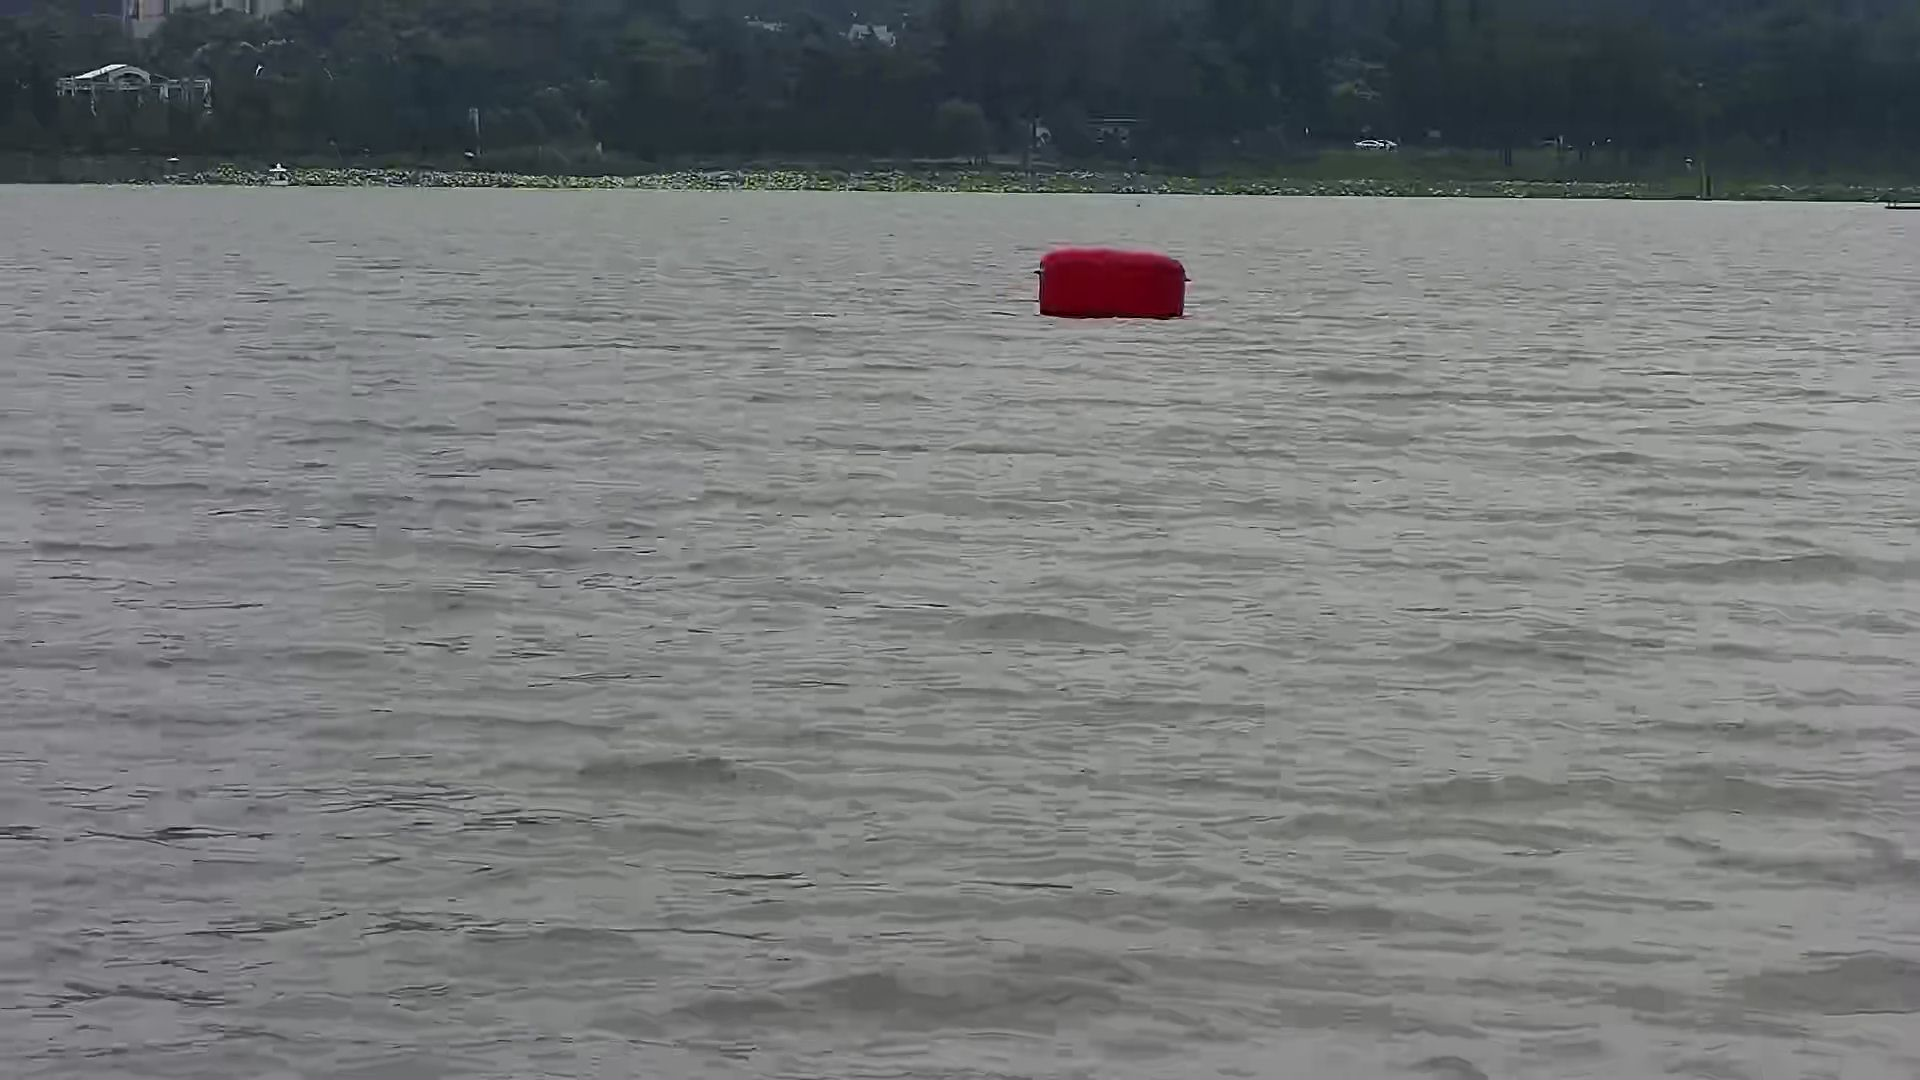rubbish: (1022, 245, 1199, 316)
